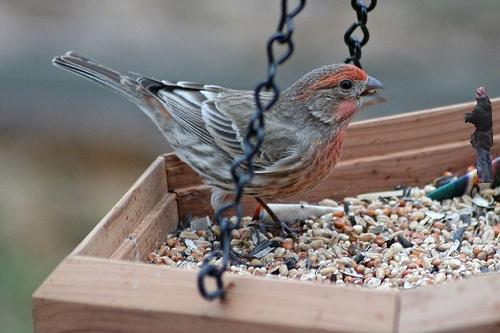tampered: (464, 88, 493, 183)
